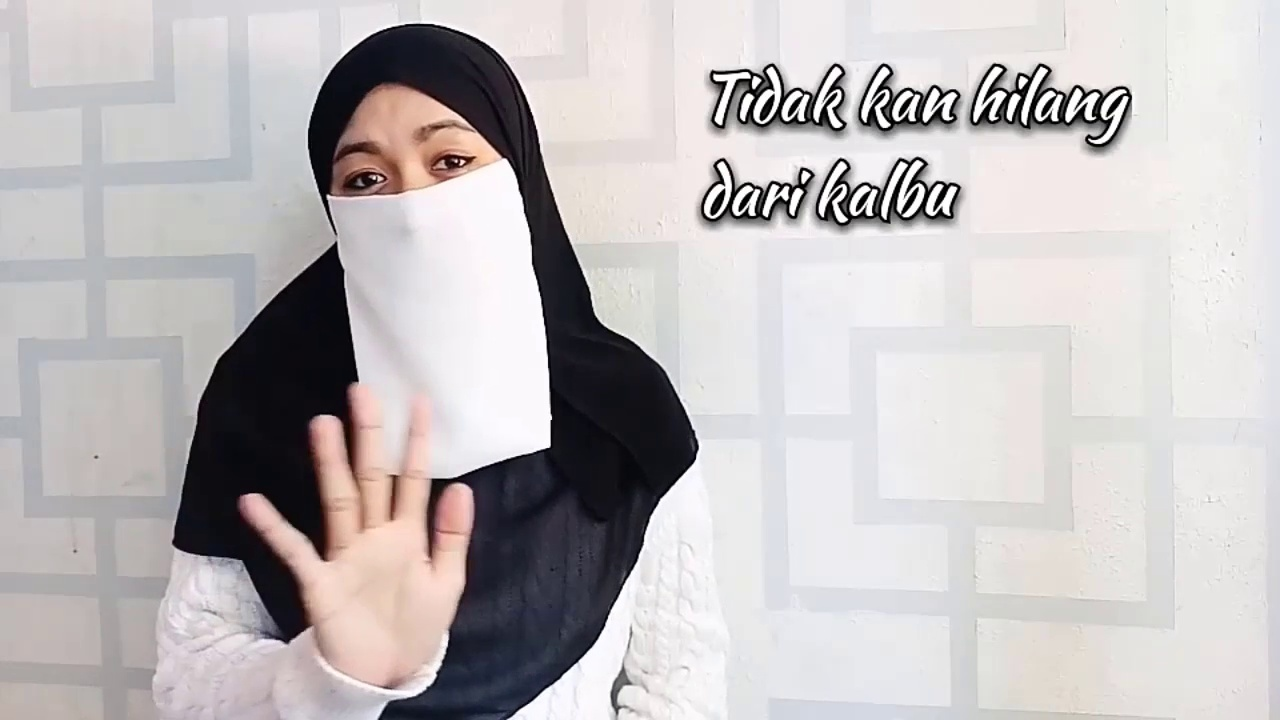TIDAK: (227, 21, 543, 698)
